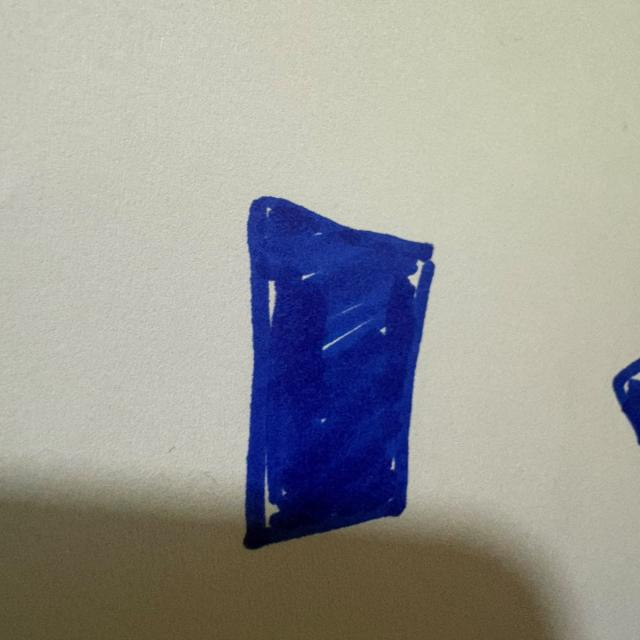Rectangle: (234, 192, 447, 558)
